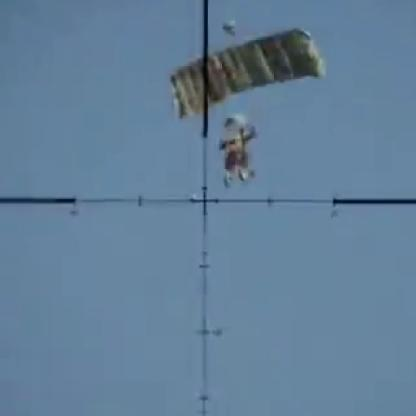enemy: (216, 127, 255, 186)
